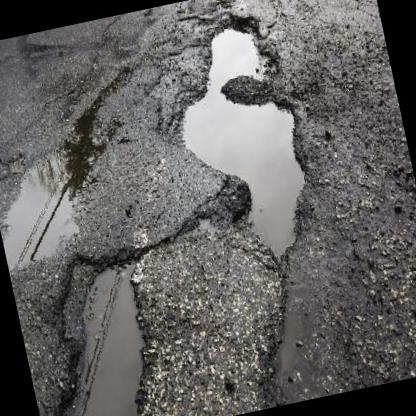pothole: (151, 0, 328, 279), (7, 235, 185, 416)
